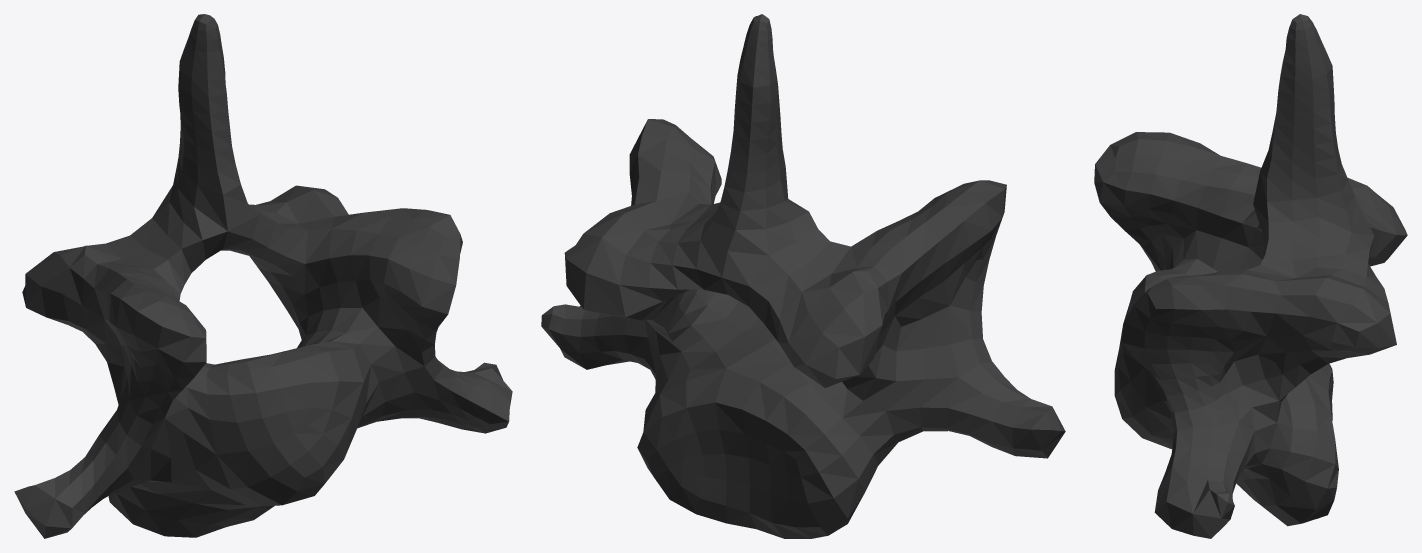
3 renders of one model, left to right at view 1: azimuth 30°, elevation 25°; view 2: azimuth 150°, elevation 25°; view 3: azimuth 270°, elevation 25°, orthographic. The views are drawn at different scales.
Visible parts, largest first — view 1: C7; view 2: C7; view 3: C7.
Boxes of the visible parts, box(x1,y1,x2,y2) form: C7: box(14, 14, 512, 538); C7: box(541, 14, 1065, 538); C7: box(1094, 14, 1407, 538).
Size of the model in its own units: 2.95 by 2.9 by 1.68.
Materials: 1 (1 with a texture image).
